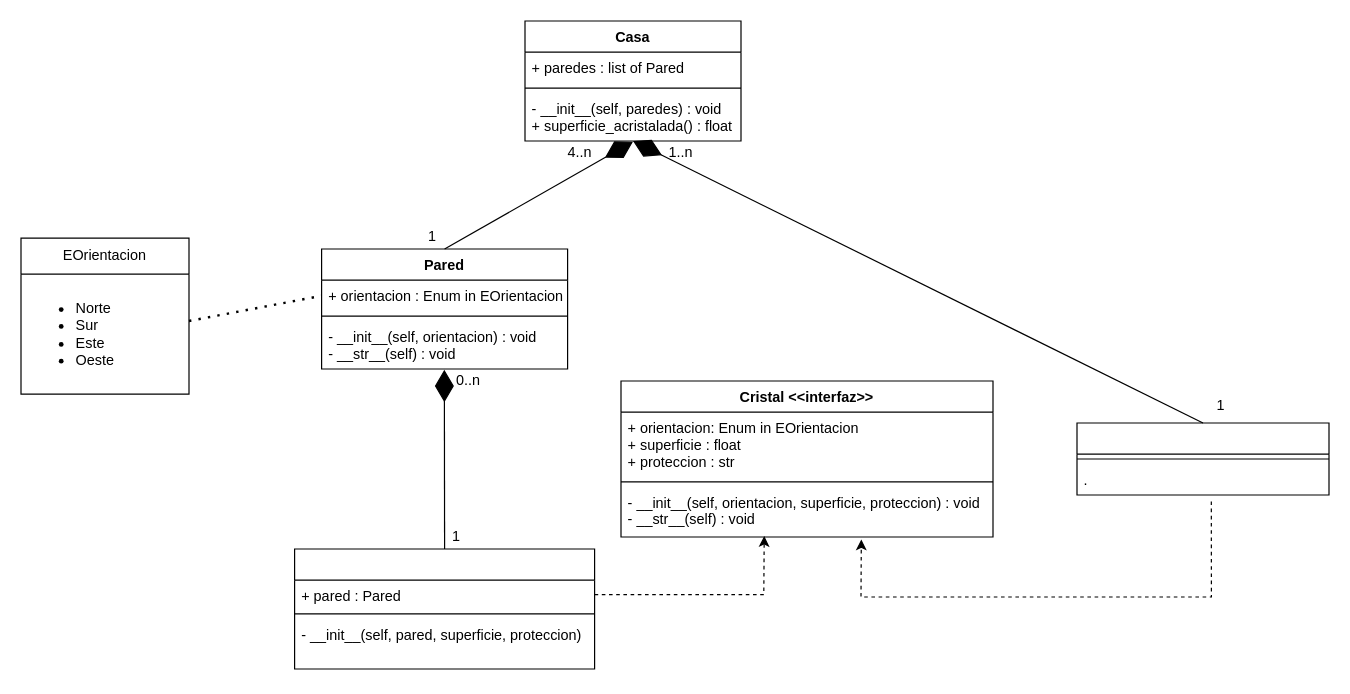
Some shapes in this 1350 by 694 pixel diagram are drawn without their labels. Each missing label, with the box of its shape:
ParedCortina: (1076, 422, 1329, 495)
Ventana: (293, 548, 595, 669)
